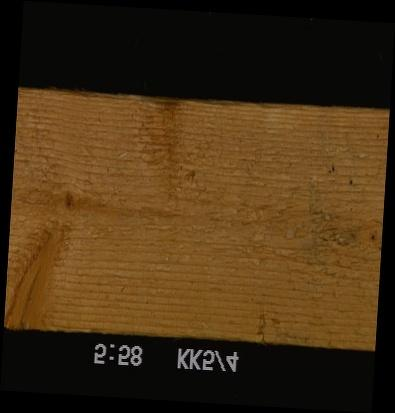small_knot: (60, 187, 75, 217), (365, 230, 378, 245)
wave: (62, 97, 310, 116)
